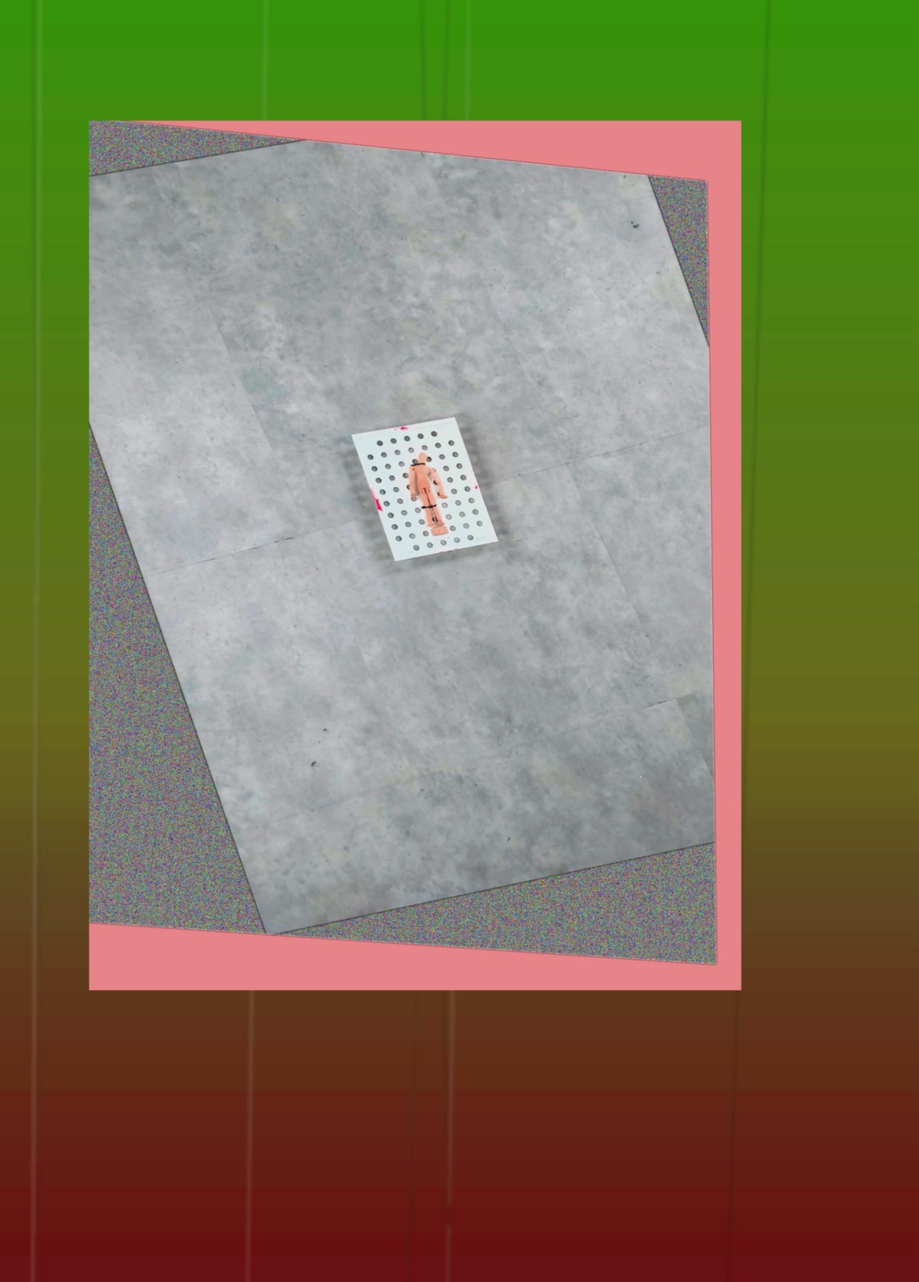basket: (344, 413, 504, 569)
mannequin: (405, 447, 452, 541)
